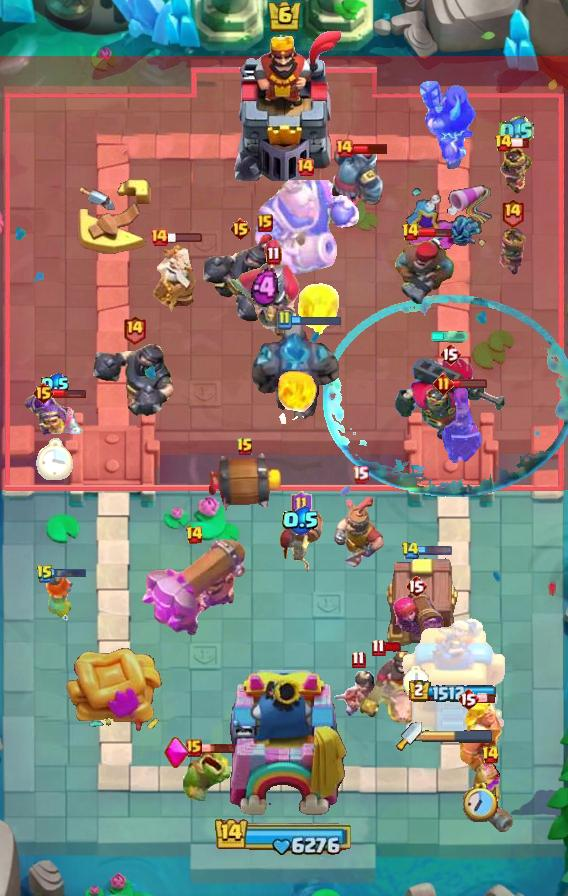bar: (402, 615, 507, 731)
bomb: (381, 555, 461, 649)
bomb-tower: (462, 758, 518, 836)
bomber-evolution: (496, 147, 536, 197), (496, 227, 528, 277)
cannoneer-tower: (252, 316, 342, 420)
clock: (214, 816, 354, 856)
earthquake: (331, 488, 389, 570)
electro-spirit: (251, 268, 279, 308), (282, 505, 320, 534), (499, 116, 534, 147), (40, 372, 70, 395)
elixir: (36, 438, 74, 480), (462, 782, 497, 821), (403, 667, 429, 698)
elixir-collector: (150, 239, 202, 319)
elixir-golem-big: (424, 387, 484, 471)
elixir-golem-small: (328, 145, 384, 205)
emote: (290, 315, 342, 326), (351, 142, 388, 155), (200, 742, 237, 754), (167, 231, 203, 243), (52, 568, 87, 580), (452, 378, 489, 389), (417, 227, 453, 238), (417, 544, 453, 555), (52, 388, 87, 399), (510, 137, 530, 149), (384, 641, 404, 653), (477, 693, 496, 704)
firecracker-evolution: (24, 391, 86, 438)
flying-machine: (183, 749, 231, 801)
freeze: (356, 649, 428, 727)
furnace: (140, 536, 248, 636)
giant-skeleton: (252, 174, 359, 276)
goblin-hut: (458, 697, 501, 775)
hog-rider: (41, 572, 79, 624)
ice-spirit: (430, 331, 470, 343)
inferno-dragon: (418, 75, 476, 169)
inferno-tower: (394, 355, 506, 443)
king-tower: (219, 670, 349, 826), (223, 31, 345, 181)
king-tower-bar: (422, 729, 494, 743)
knight: (277, 508, 325, 574)
mega-minion: (388, 588, 444, 650)
pad_0: (324, 295, 568, 501)
phoenix-small: (392, 236, 458, 306)
royal-guardian: (90, 336, 178, 420), (201, 231, 279, 325)
selected: (410, 680, 499, 703)
skeleton-dragon: (327, 671, 389, 723)
skeleton-king-skill: (164, 736, 192, 770)
text: (499, 196, 524, 227), (121, 315, 146, 346), (228, 217, 251, 241), (33, 381, 56, 405), (291, 491, 312, 517), (439, 342, 461, 366), (405, 574, 427, 598), (457, 687, 479, 711), (433, 373, 454, 394), (494, 133, 514, 153), (334, 138, 354, 158), (295, 157, 315, 177), (400, 222, 420, 242), (149, 227, 169, 247), (480, 745, 500, 765), (184, 525, 203, 545), (400, 540, 420, 559), (236, 437, 254, 457), (36, 564, 54, 584), (351, 465, 369, 483), (276, 310, 292, 330), (257, 214, 273, 232), (186, 739, 202, 757), (351, 651, 366, 669), (371, 638, 385, 657)
the-log: (205, 451, 285, 511)
valkyrie: (292, 280, 343, 342), (273, 364, 321, 424)
wall-breaker-evolution: (229, 237, 301, 339)
